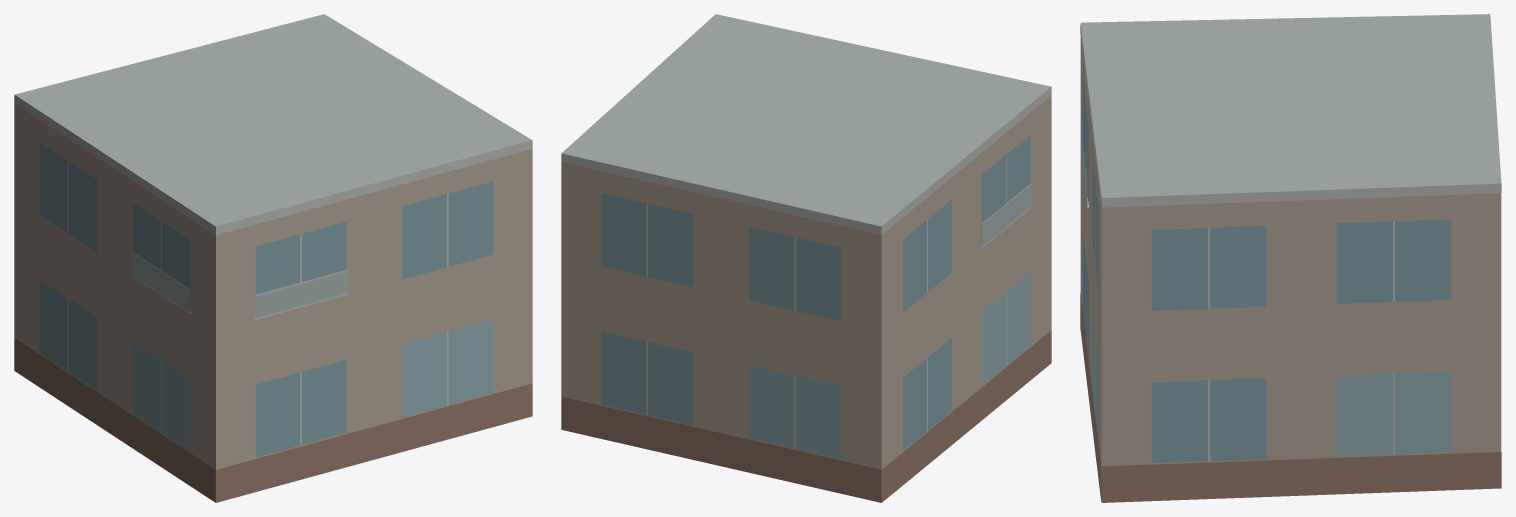
The model's file is survey-upis-32920121.glb.
3 renders of one model, left to right at view 1: azimuth 30°, elevation 25°; view 2: azimuth 150°, elevation 25°; view 3: azimuth 270°, elevation 25°, orthographic. The views are drawn at different scales.
Visible parts, largest first — view 1: survey-upis-32920121.tmp; view 2: survey-upis-32920121.tmp; view 3: survey-upis-32920121.tmp.
Boxes of the visible parts, <box> form: survey-upis-32920121.tmp: <box>14,14,532,502</box>; survey-upis-32920121.tmp: <box>561,14,1051,502</box>; survey-upis-32920121.tmp: <box>1080,14,1501,502</box>.
Size of the model in its own units: 10.12 by 7.8 by 9.78.
